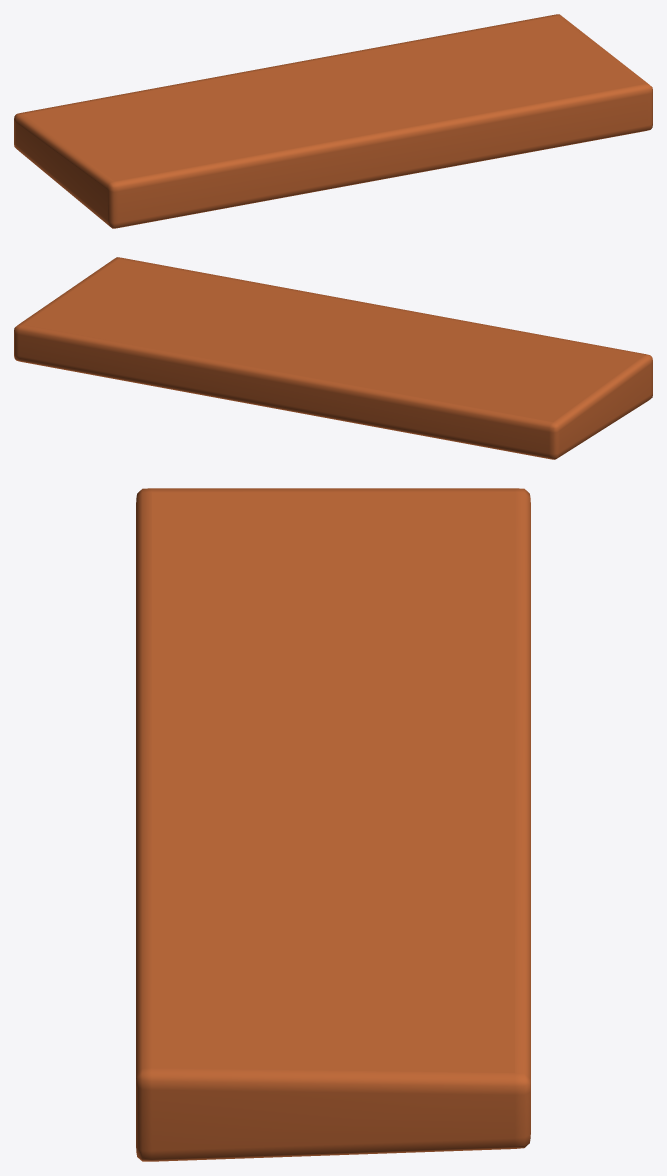
The model's file is Farmhouse_ROOM_shelves01_v01.glb.
3 renders of one model, top to bottom at view 1: azimuth 30°, elevation 25°; view 2: azimuth 150°, elevation 25°; view 3: azimuth 270°, elevation 25°, orthographic. The views are drawn at different scales.
Visible parts, largest first — view 1: Farmhouse_ROOM_shelves01_v01; view 2: Farmhouse_ROOM_shelves01_v01; view 3: Farmhouse_ROOM_shelves01_v01.
Part boxes in pixels (left/top/right/bottom): Farmhouse_ROOM_shelves01_v01: left=14, top=14, right=652, bottom=228; Farmhouse_ROOM_shelves01_v01: left=14, top=257, right=652, bottom=459; Farmhouse_ROOM_shelves01_v01: left=136, top=488, right=530, bottom=1161.
Bounding box in the file's own units: 1.57 × 0.2114 × 0.4952.
